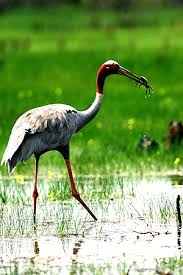seu_dau_do: (6, 58, 152, 233)
